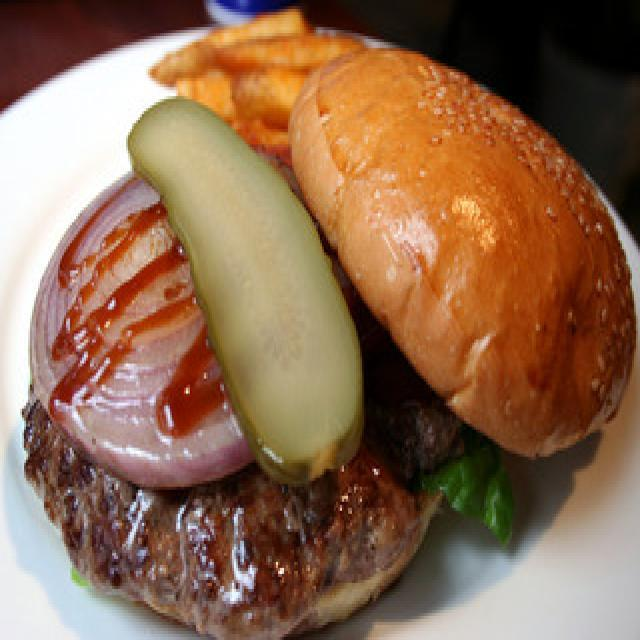Hamburger: (39, 56, 640, 640)
